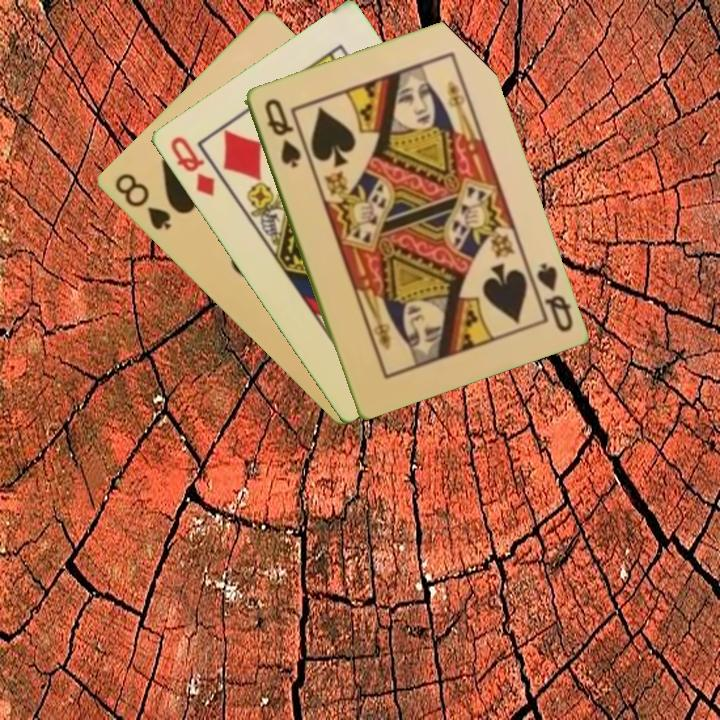8s: (111, 169, 174, 233)
Qd: (166, 132, 218, 199)
Qs: (524, 259, 575, 335), (260, 94, 303, 171)
